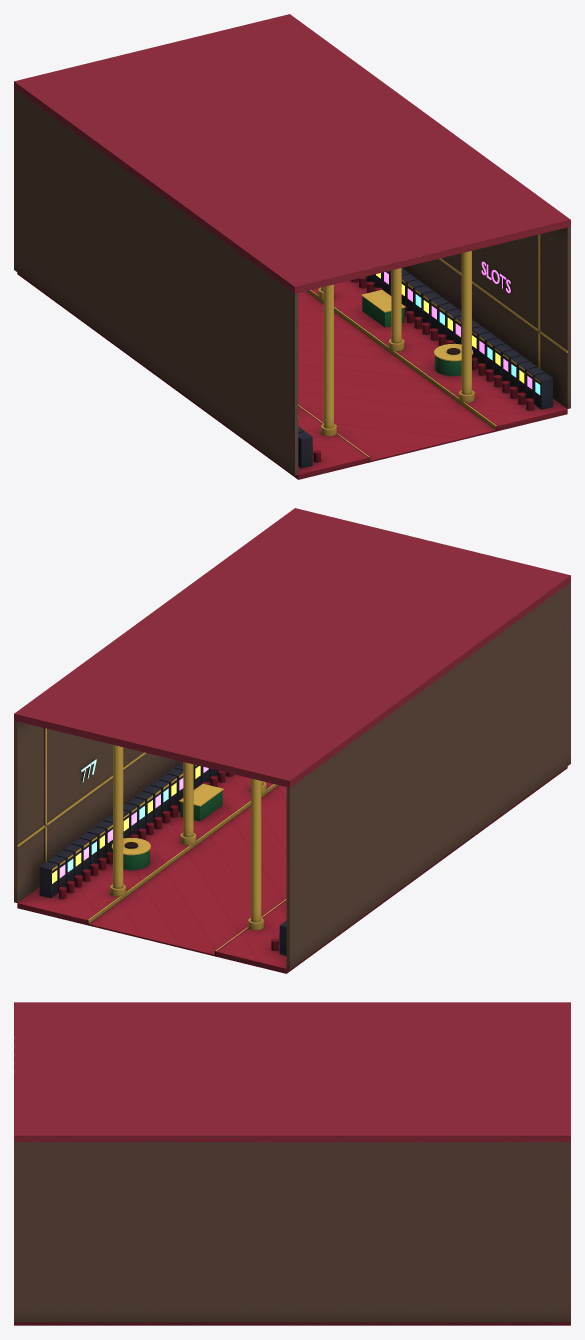
The model's file is casino_sala.glb.
3 views of the same model, one above another, from view 1: azimuth 30°, elevation 25°; view 2: azimuth 150°, elevation 25°; view 3: azimuth 270°, elevation 25° (orthographic).
Visible parts, largest first — view 1: casino_sala; view 2: casino_sala; view 3: casino_sala.
Boxes of the visible parts, box(x1,y1,x2,y2) form: casino_sala: box(14, 14, 570, 479); casino_sala: box(14, 508, 570, 973); casino_sala: box(14, 1002, 570, 1325).
Size of the model in its own units: 17 by 11.4 by 30.
1 material, 1 textured.
